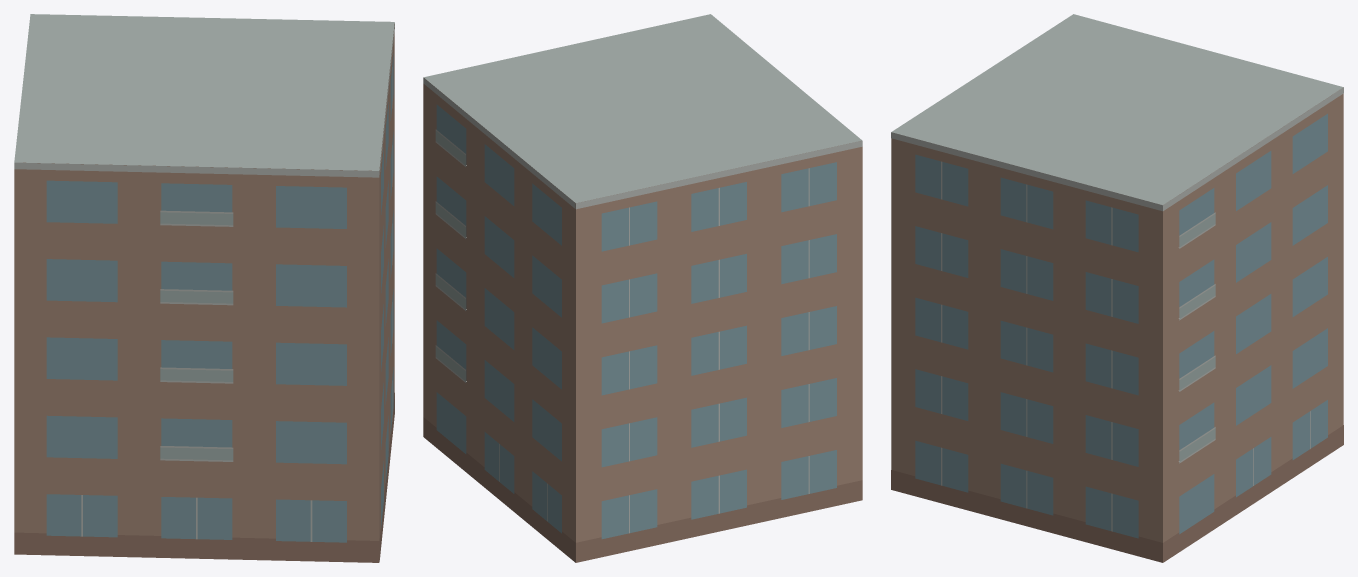
File: survey-upis-32524894.glb
The picture shows the model from 3 angles, left to right: view 1: azimuth 30°, elevation 25°; view 2: azimuth 150°, elevation 25°; view 3: azimuth 270°, elevation 25°; orthographic projection. The views are drawn at different scales.
Visible parts, largest first — view 1: survey-upis-32524894.tmp; view 2: survey-upis-32524894.tmp; view 3: survey-upis-32524894.tmp.
Boxes of the visible parts, x1,y1,x2,y2 form: survey-upis-32524894.tmp: (14, 14, 394, 562); survey-upis-32524894.tmp: (423, 14, 862, 562); survey-upis-32524894.tmp: (891, 14, 1343, 562).
Size of the model in its own units: 16.41 by 14.3 by 16.41.
